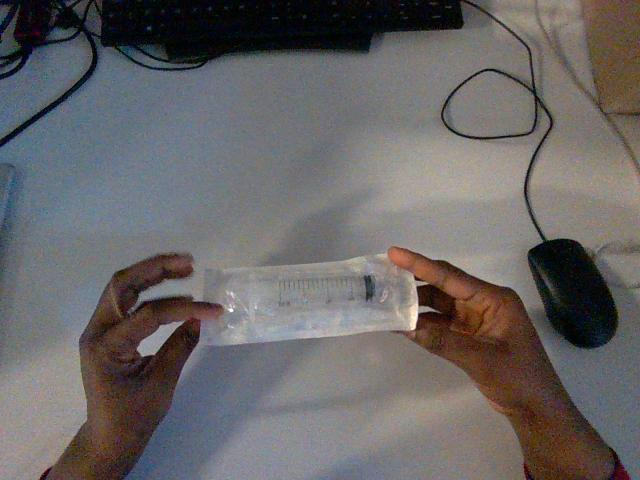syringe: (201, 255, 417, 344)
